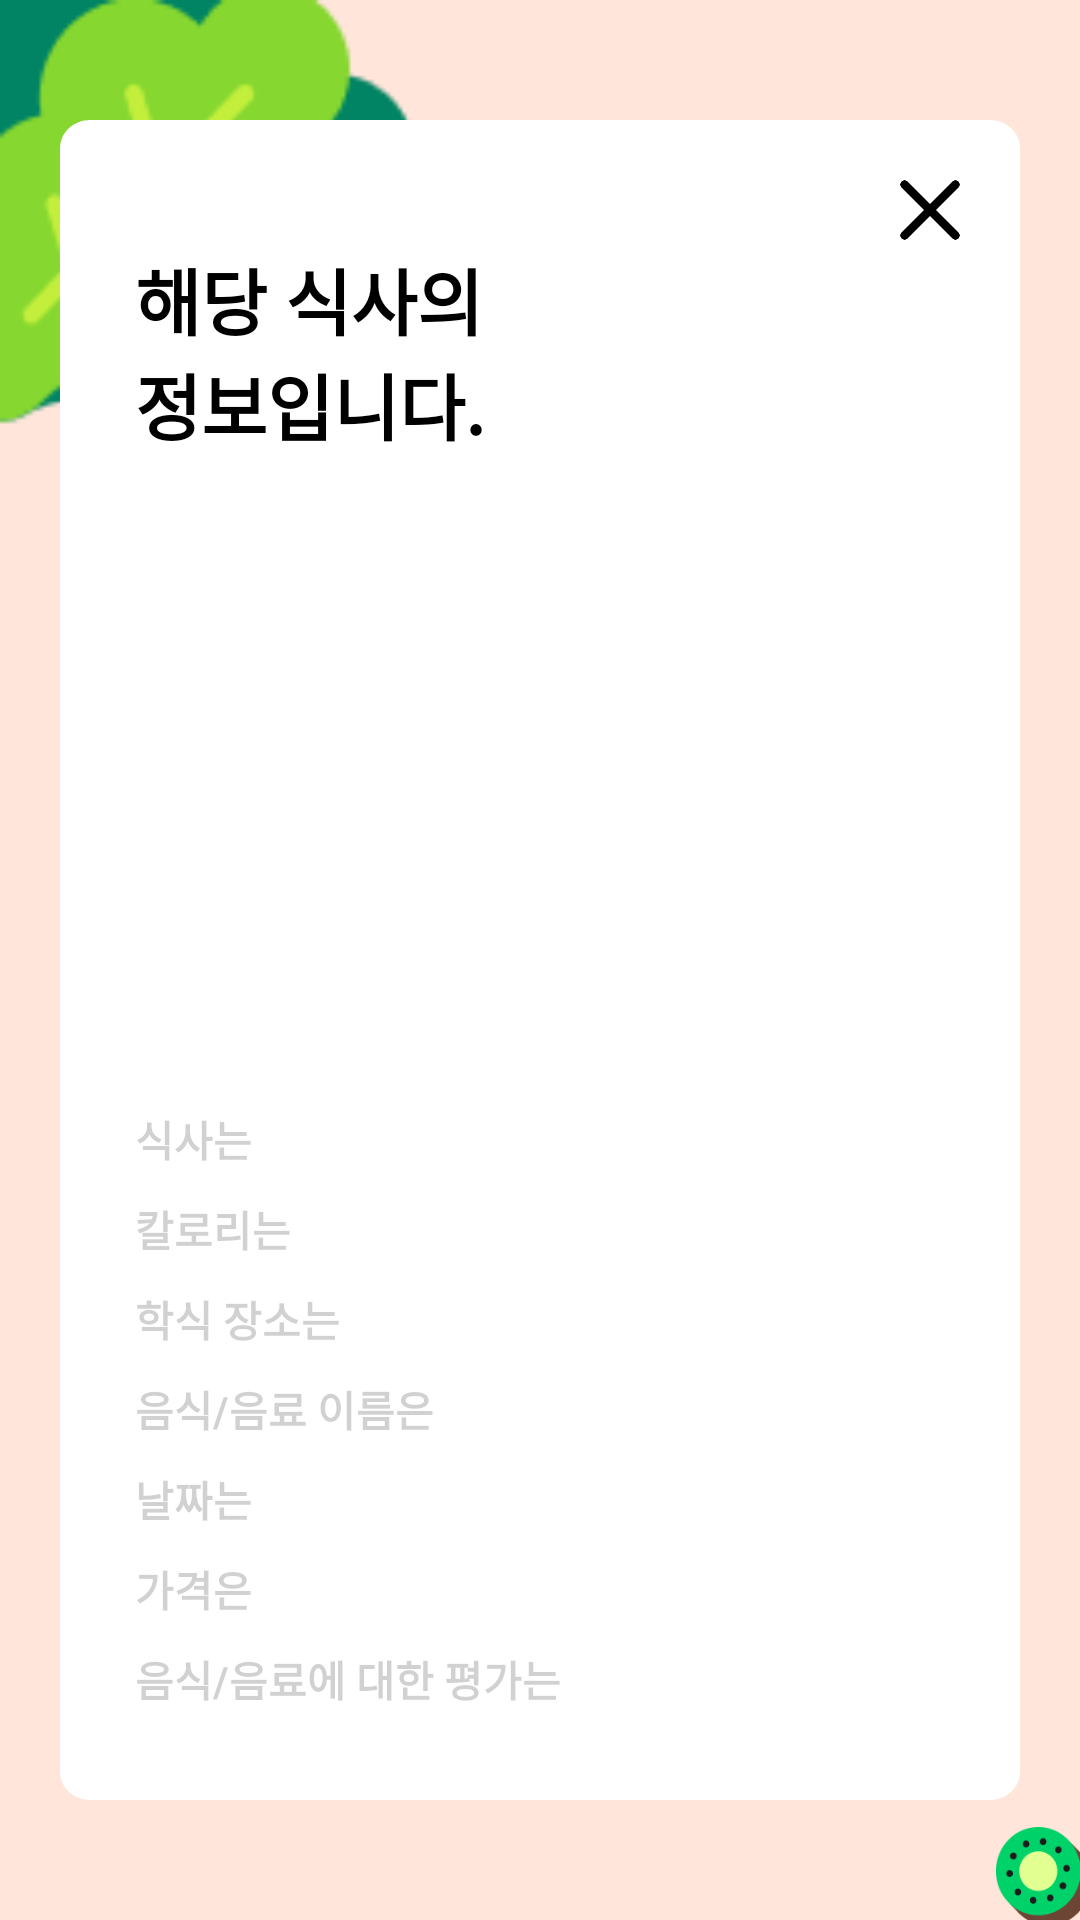

Icon click points for this 1080×1920 phone screenshot, format (x,y):
kiwi: (1038,1873)
